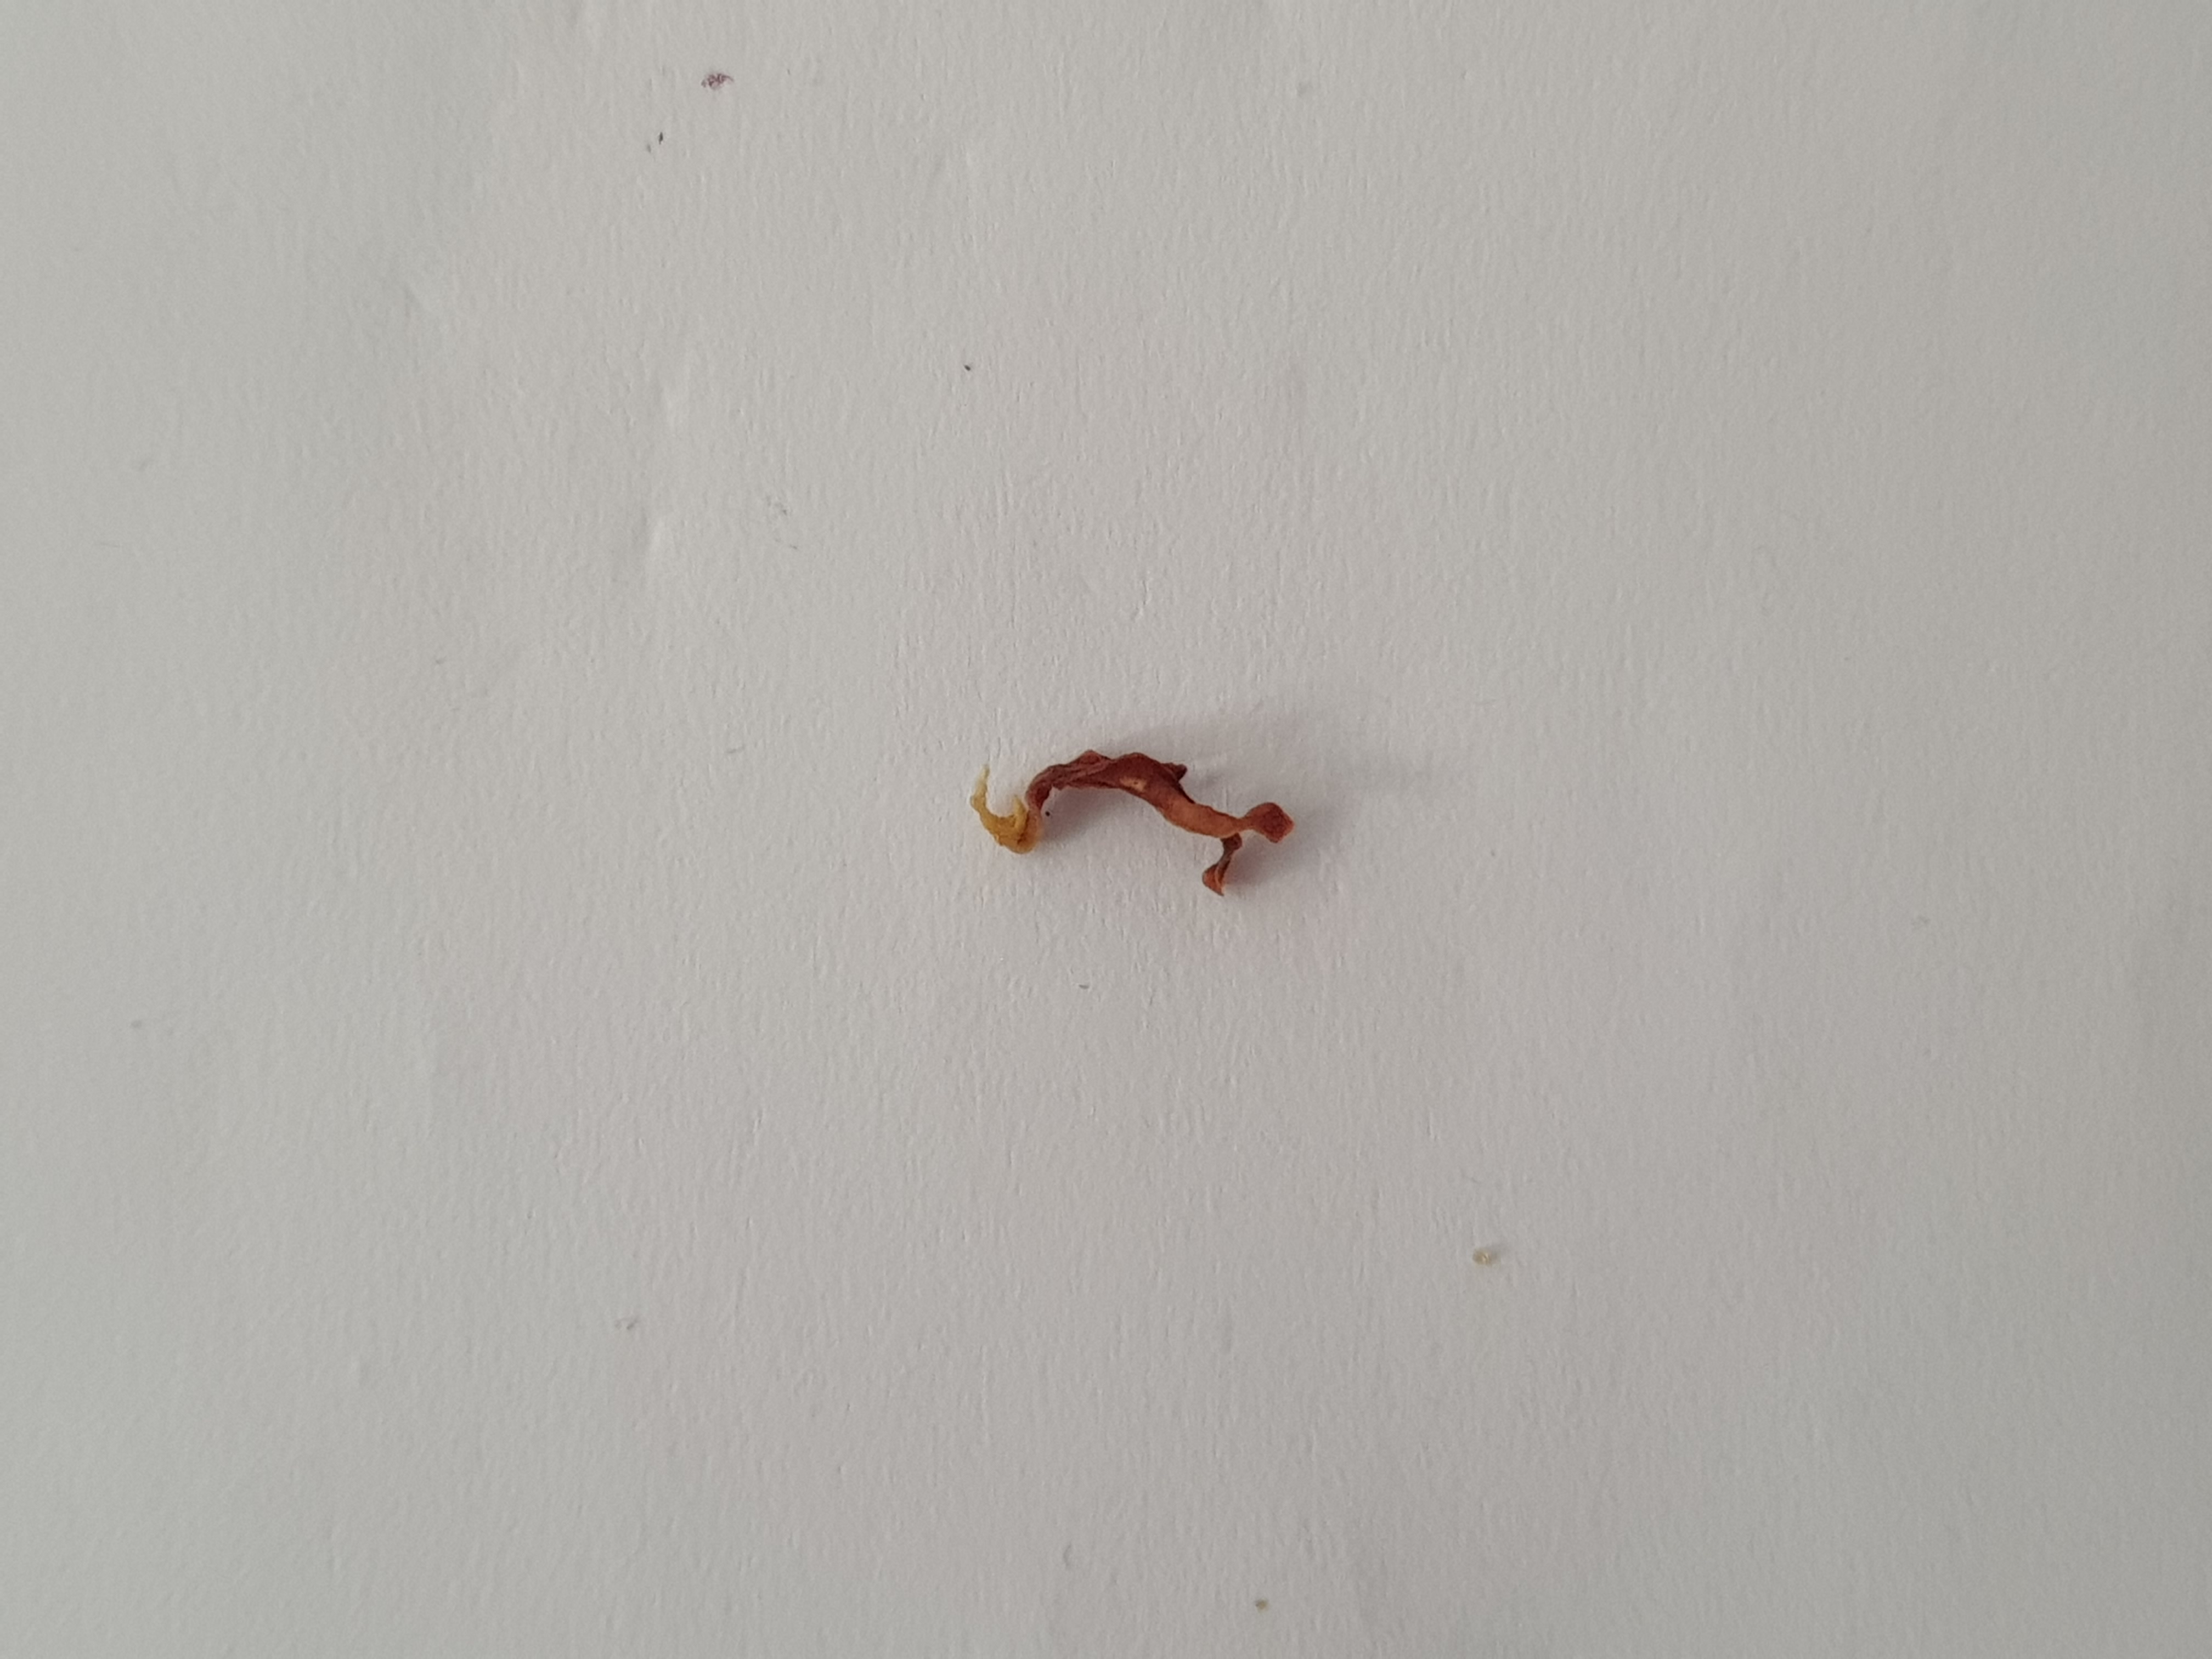thread: (949, 716, 1325, 934)
